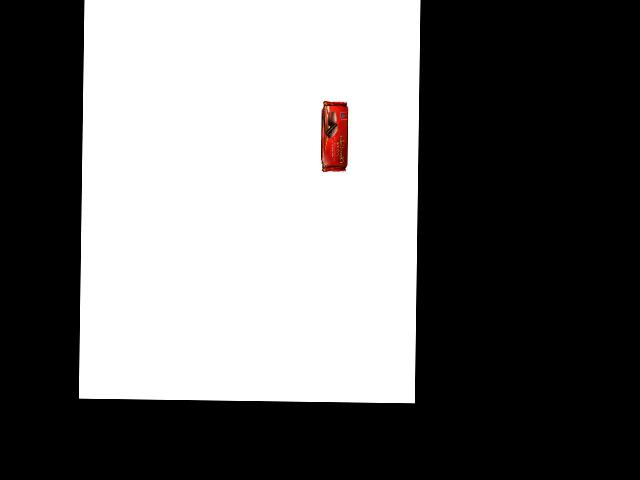chocolate: (314, 99, 348, 172)
